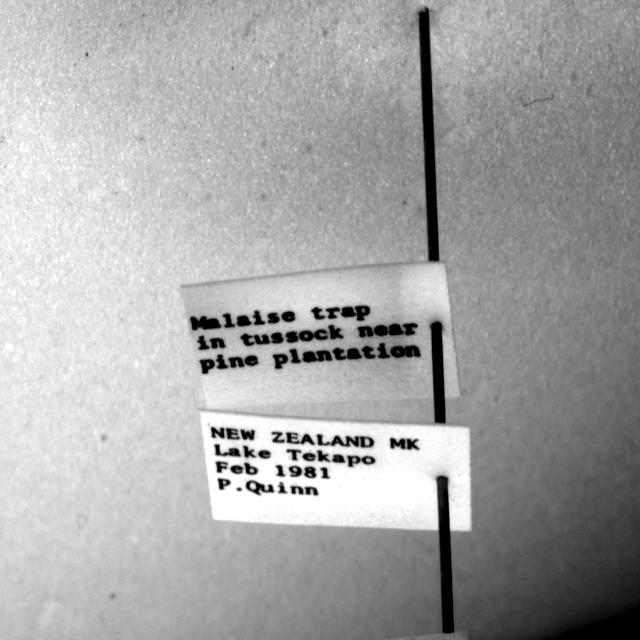typed_label: (181, 261, 460, 409), (200, 411, 471, 531)
